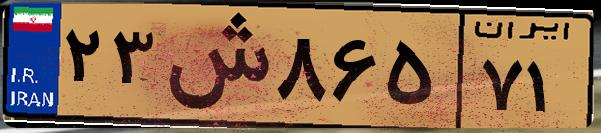1: (525, 38, 570, 115)
2: (57, 26, 110, 100)
3: (110, 28, 158, 98)
5: (385, 28, 445, 110)
6: (330, 28, 385, 110)
7: (475, 38, 525, 113)
8: (270, 28, 330, 110)
ش: (158, 12, 270, 120)
